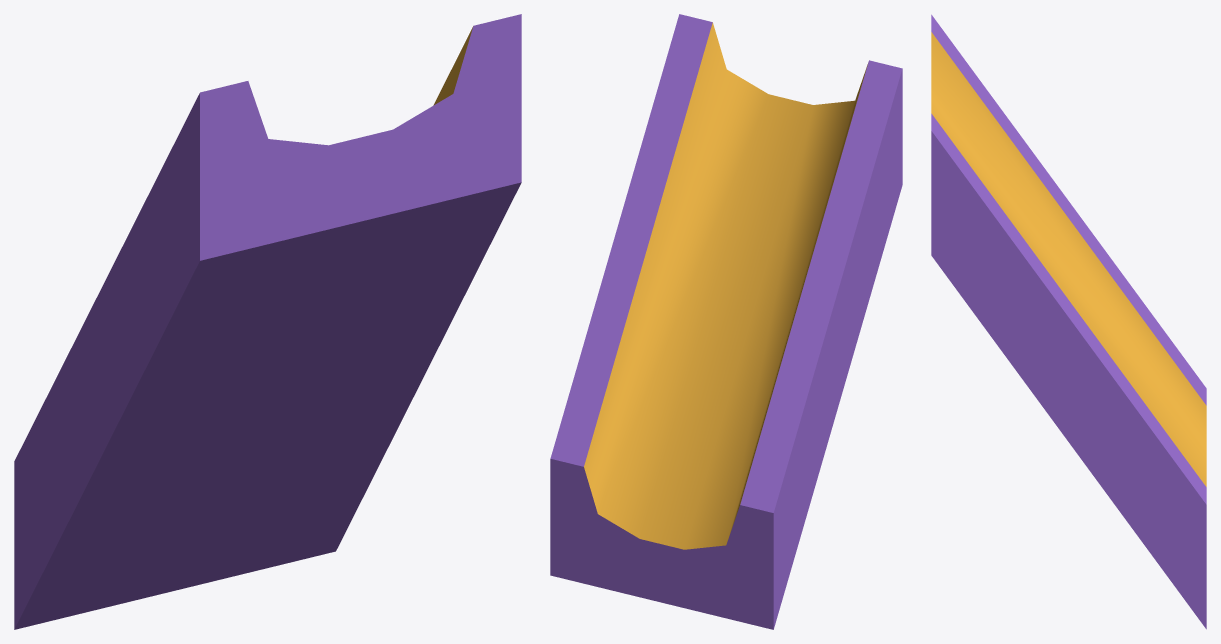
The model's file is slant-d.glb.
The picture shows the model from 3 angles, left to right: view 1: azimuth 30°, elevation 25°; view 2: azimuth 150°, elevation 25°; view 3: azimuth 270°, elevation 25°; orthographic projection. The views are drawn at different scales.
Parts seen in each view (by area): view 1: slant-d; view 2: slant-d; view 3: slant-d.
Boxes of the visible parts, left/top/right/bottom form: slant-d: left=14, top=14, right=521, bottom=629; slant-d: left=550, top=14, right=902, bottom=629; slant-d: left=931, top=14, right=1206, bottom=629.
Bounding box in the file's own units: 1 × 2 × 1.
Materials: 1 (1 with a texture image).
